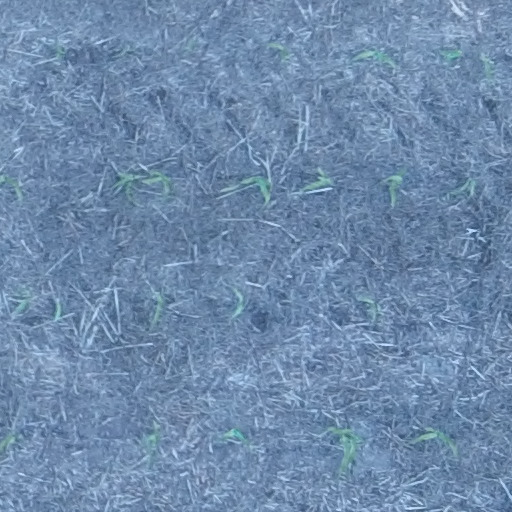planta: (324, 425, 363, 473), (411, 427, 457, 456), (386, 168, 406, 207), (301, 166, 332, 191), (240, 175, 271, 200), (354, 48, 394, 65), (142, 171, 169, 193), (112, 172, 137, 195), (229, 286, 244, 322), (266, 41, 289, 63), (449, 179, 476, 196), (221, 427, 248, 444), (151, 291, 164, 325), (440, 47, 464, 61)
